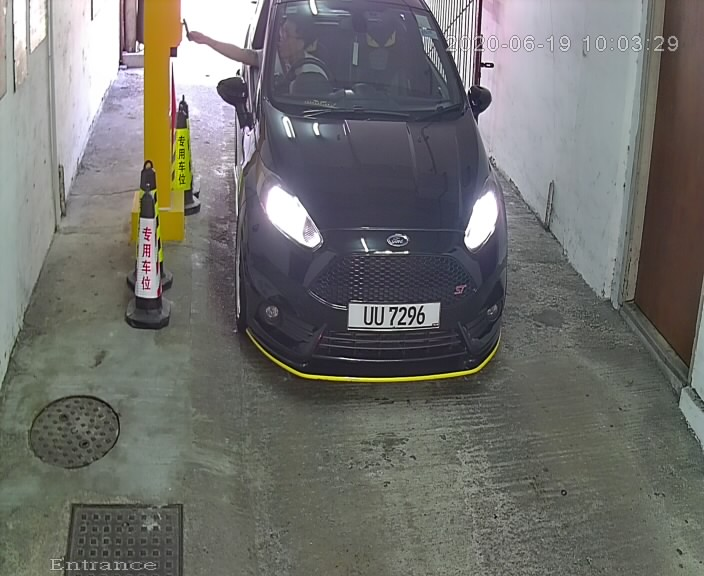privatecar: (227, 3, 518, 393)
